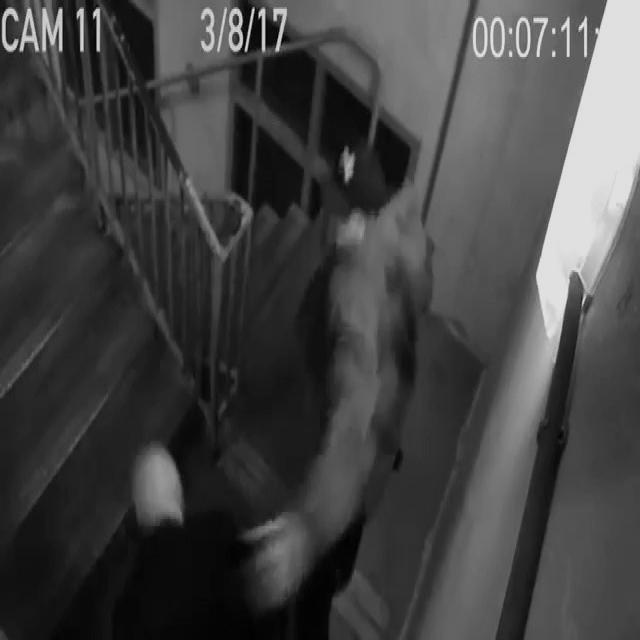fight: (108, 129, 433, 640)
